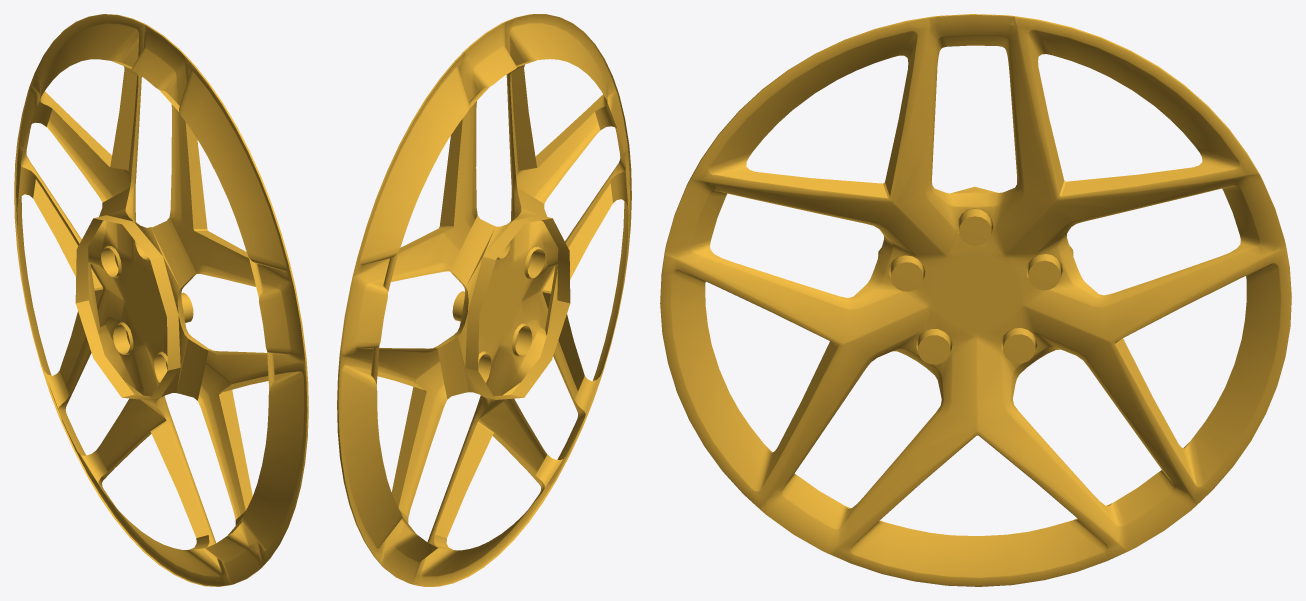
File: fumi_sport_rims.glb
3 views of the same model, side by side, from view 1: azimuth 30°, elevation 25°; view 2: azimuth 150°, elevation 25°; view 3: azimuth 270°, elevation 25° (orthographic). The views are drawn at different scales.
Visible parts, largest first — view 1: paint_gold; view 2: paint_gold; view 3: paint_gold.
Boxes of the visible parts, x1,y1,x2,y2 form: paint_gold: [14, 14, 308, 586]; paint_gold: [337, 14, 631, 586]; paint_gold: [660, 14, 1291, 586].
Size of the model in its own units: 0.0645 by 0.7079 by 0.7081.
